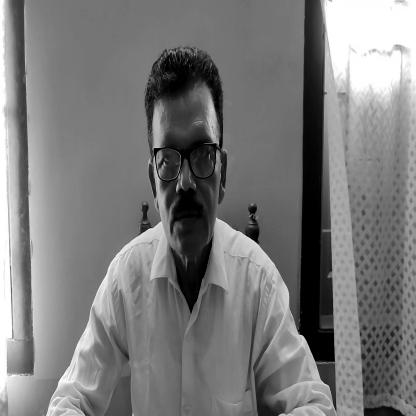Normal: (143, 53, 231, 266)
